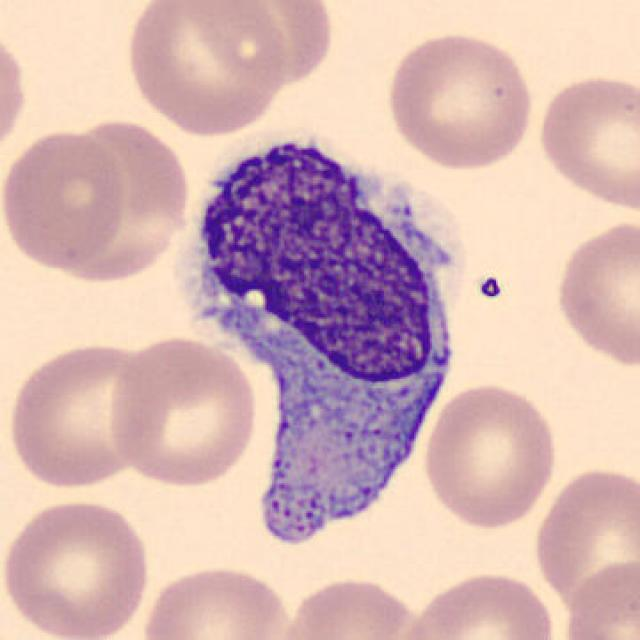Lymphocyte: (167, 107, 471, 559)
RBC: (4, 335, 160, 492), (107, 333, 261, 490), (58, 117, 195, 289), (121, 0, 290, 138), (382, 26, 537, 173), (0, 493, 154, 640), (419, 379, 562, 531), (0, 125, 130, 273), (528, 460, 640, 615), (534, 69, 638, 215), (551, 215, 638, 370), (183, 0, 341, 85), (137, 560, 295, 640), (393, 567, 560, 640), (274, 573, 421, 640), (558, 553, 640, 640), (0, 19, 32, 170)
